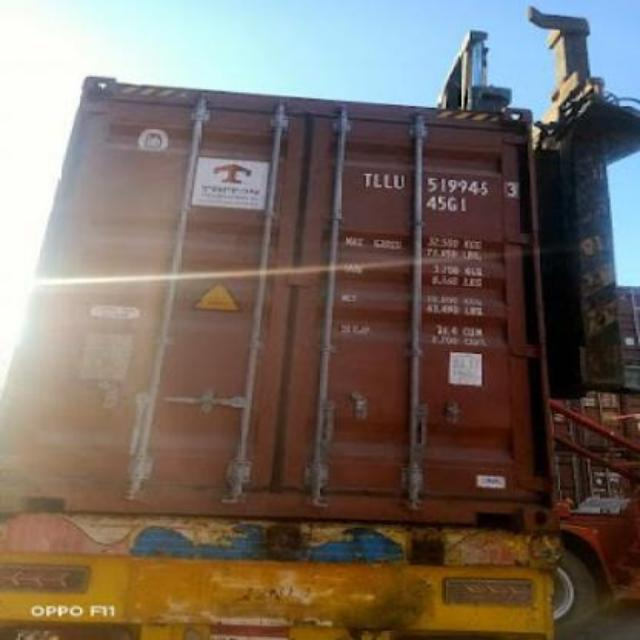1: (438, 169, 448, 195)
3: (504, 177, 522, 201)
4: (468, 172, 480, 198)
5: (422, 168, 438, 196)
6: (480, 170, 492, 203)
9: (446, 171, 458, 195), (458, 170, 468, 197)
L: (371, 156, 384, 190), (382, 163, 392, 195)
T: (356, 162, 374, 192)
U: (394, 165, 408, 195)
